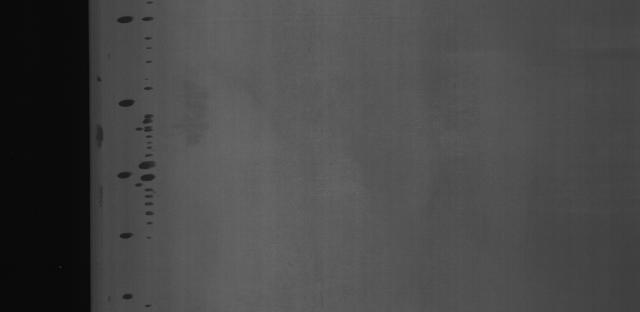oil_spot: (112, 78, 163, 247), (108, 10, 156, 43), (118, 288, 143, 306)
